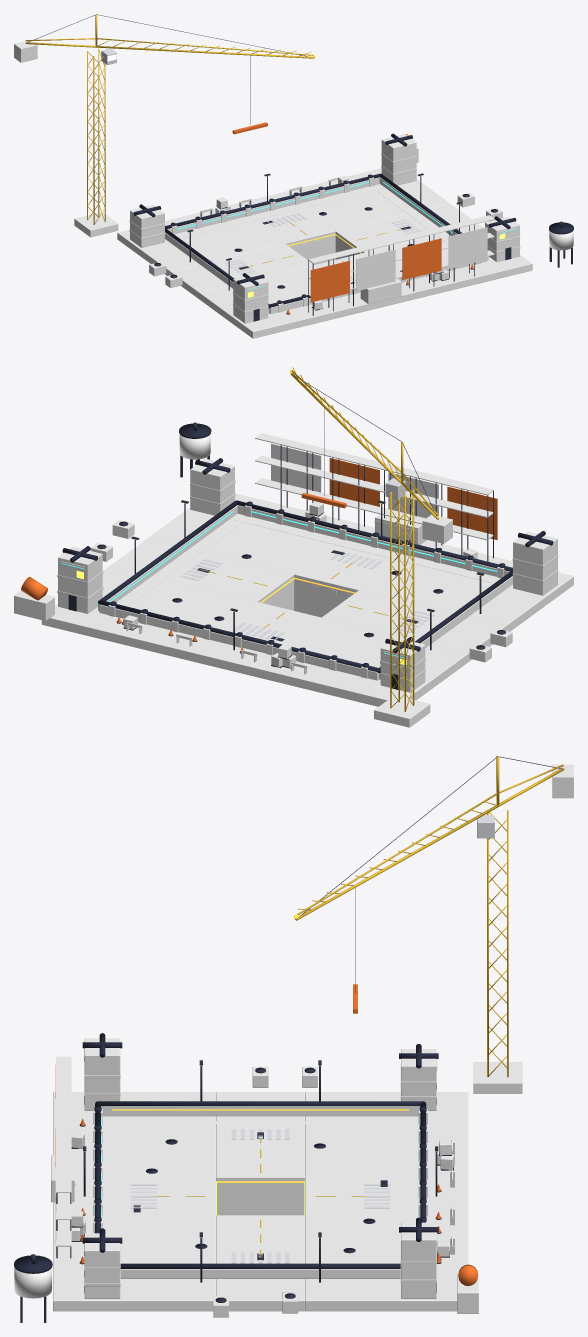
The model's file is toit_fosse.glb.
3 renders of one model, top to bottom at view 1: azimuth 30°, elevation 25°; view 2: azimuth 150°, elevation 25°; view 3: azimuth 270°, elevation 25°, orthographic. The views are drawn at different scales.
Parts seen in each view (by area): view 1: DalleN, DalleS, DalleO, DalleE, TourB2, Bache0, Bache3, Bache2, Bache1, TourO1, ParapetL1, TourO2 (+12 smaller); view 2: DalleN, DalleS, DalleE, DalleO, TourO1, TourB2, ParapetL1, ParapetL-1, TourB1, Bache0, Bache3, Bache2 (+19 smaller); view 3: DalleN, DalleS, DalleO, DalleE, ParapetP-1, PuitsP-1, ParapetP1, TourB2, TourB1, TourO1, CapP-1, CapP1 (+8 smaller).
Boxes of the visible parts, bbox=[...] form: DalleN: bbox=[117, 168, 449, 275]; DalleS: bbox=[199, 225, 532, 338]; DalleO: bbox=[170, 244, 312, 299]; DalleE: bbox=[337, 203, 478, 254]; TourB2: bbox=[381, 134, 416, 185]; Bache0: bbox=[310, 260, 349, 302]; Bache3: bbox=[448, 227, 487, 268]; Bache2: bbox=[402, 238, 441, 279]; Bache1: bbox=[356, 249, 395, 291]; TourO1: bbox=[233, 273, 268, 323]; ParapetL1: bbox=[167, 177, 379, 233]; TourO2: bbox=[130, 205, 164, 247]; DalleN: bbox=[41, 566, 468, 706]; DalleS: bbox=[147, 493, 573, 631]; DalleE: bbox=[110, 539, 292, 600]; DalleO: bbox=[322, 590, 505, 661]; TourO1: bbox=[513, 531, 557, 595]; TourB2: bbox=[58, 546, 102, 613]; ParapetL1: bbox=[99, 604, 378, 680]; ParapetL-1: bbox=[237, 505, 509, 576]; TourB1: bbox=[190, 458, 234, 515]; Bache0: bbox=[447, 486, 497, 540]; Bache3: bbox=[271, 443, 321, 492]; Bache2: bbox=[329, 458, 379, 506]; DalleN: bbox=[305, 1092, 468, 1311]; DalleS: bbox=[53, 1092, 215, 1311]; DalleO: bbox=[216, 1092, 304, 1187]; DalleE: bbox=[216, 1217, 304, 1311]; ParapetP-1: bbox=[101, 1106, 419, 1116]; PuitsP-1: bbox=[216, 1175, 304, 1215]; ParapetP1: bbox=[120, 1269, 400, 1278]; TourB2: bbox=[401, 1222, 436, 1298]; TourB1: bbox=[84, 1233, 120, 1298]; TourO1: bbox=[84, 1038, 120, 1110]; CapP-1: bbox=[98, 1101, 423, 1106]; CapP1: bbox=[120, 1263, 400, 1268].
Bounding box in the file's own units: 68.25 × 43.68 × 56.65.
